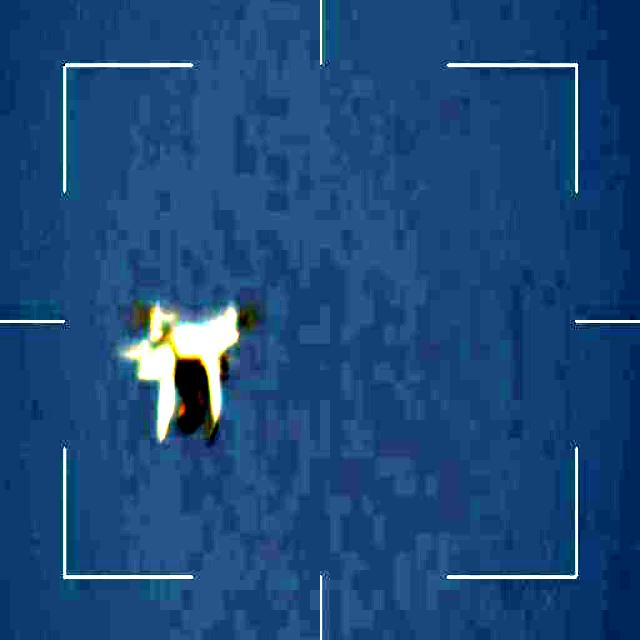bird: (121, 305, 255, 441)
